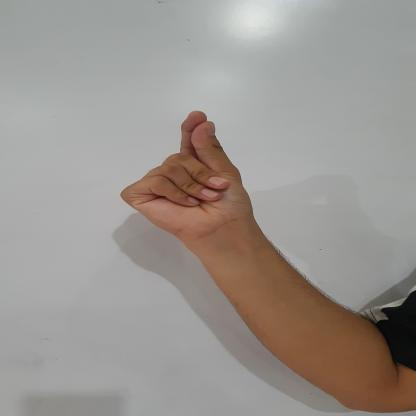R: (109, 110, 272, 242)
